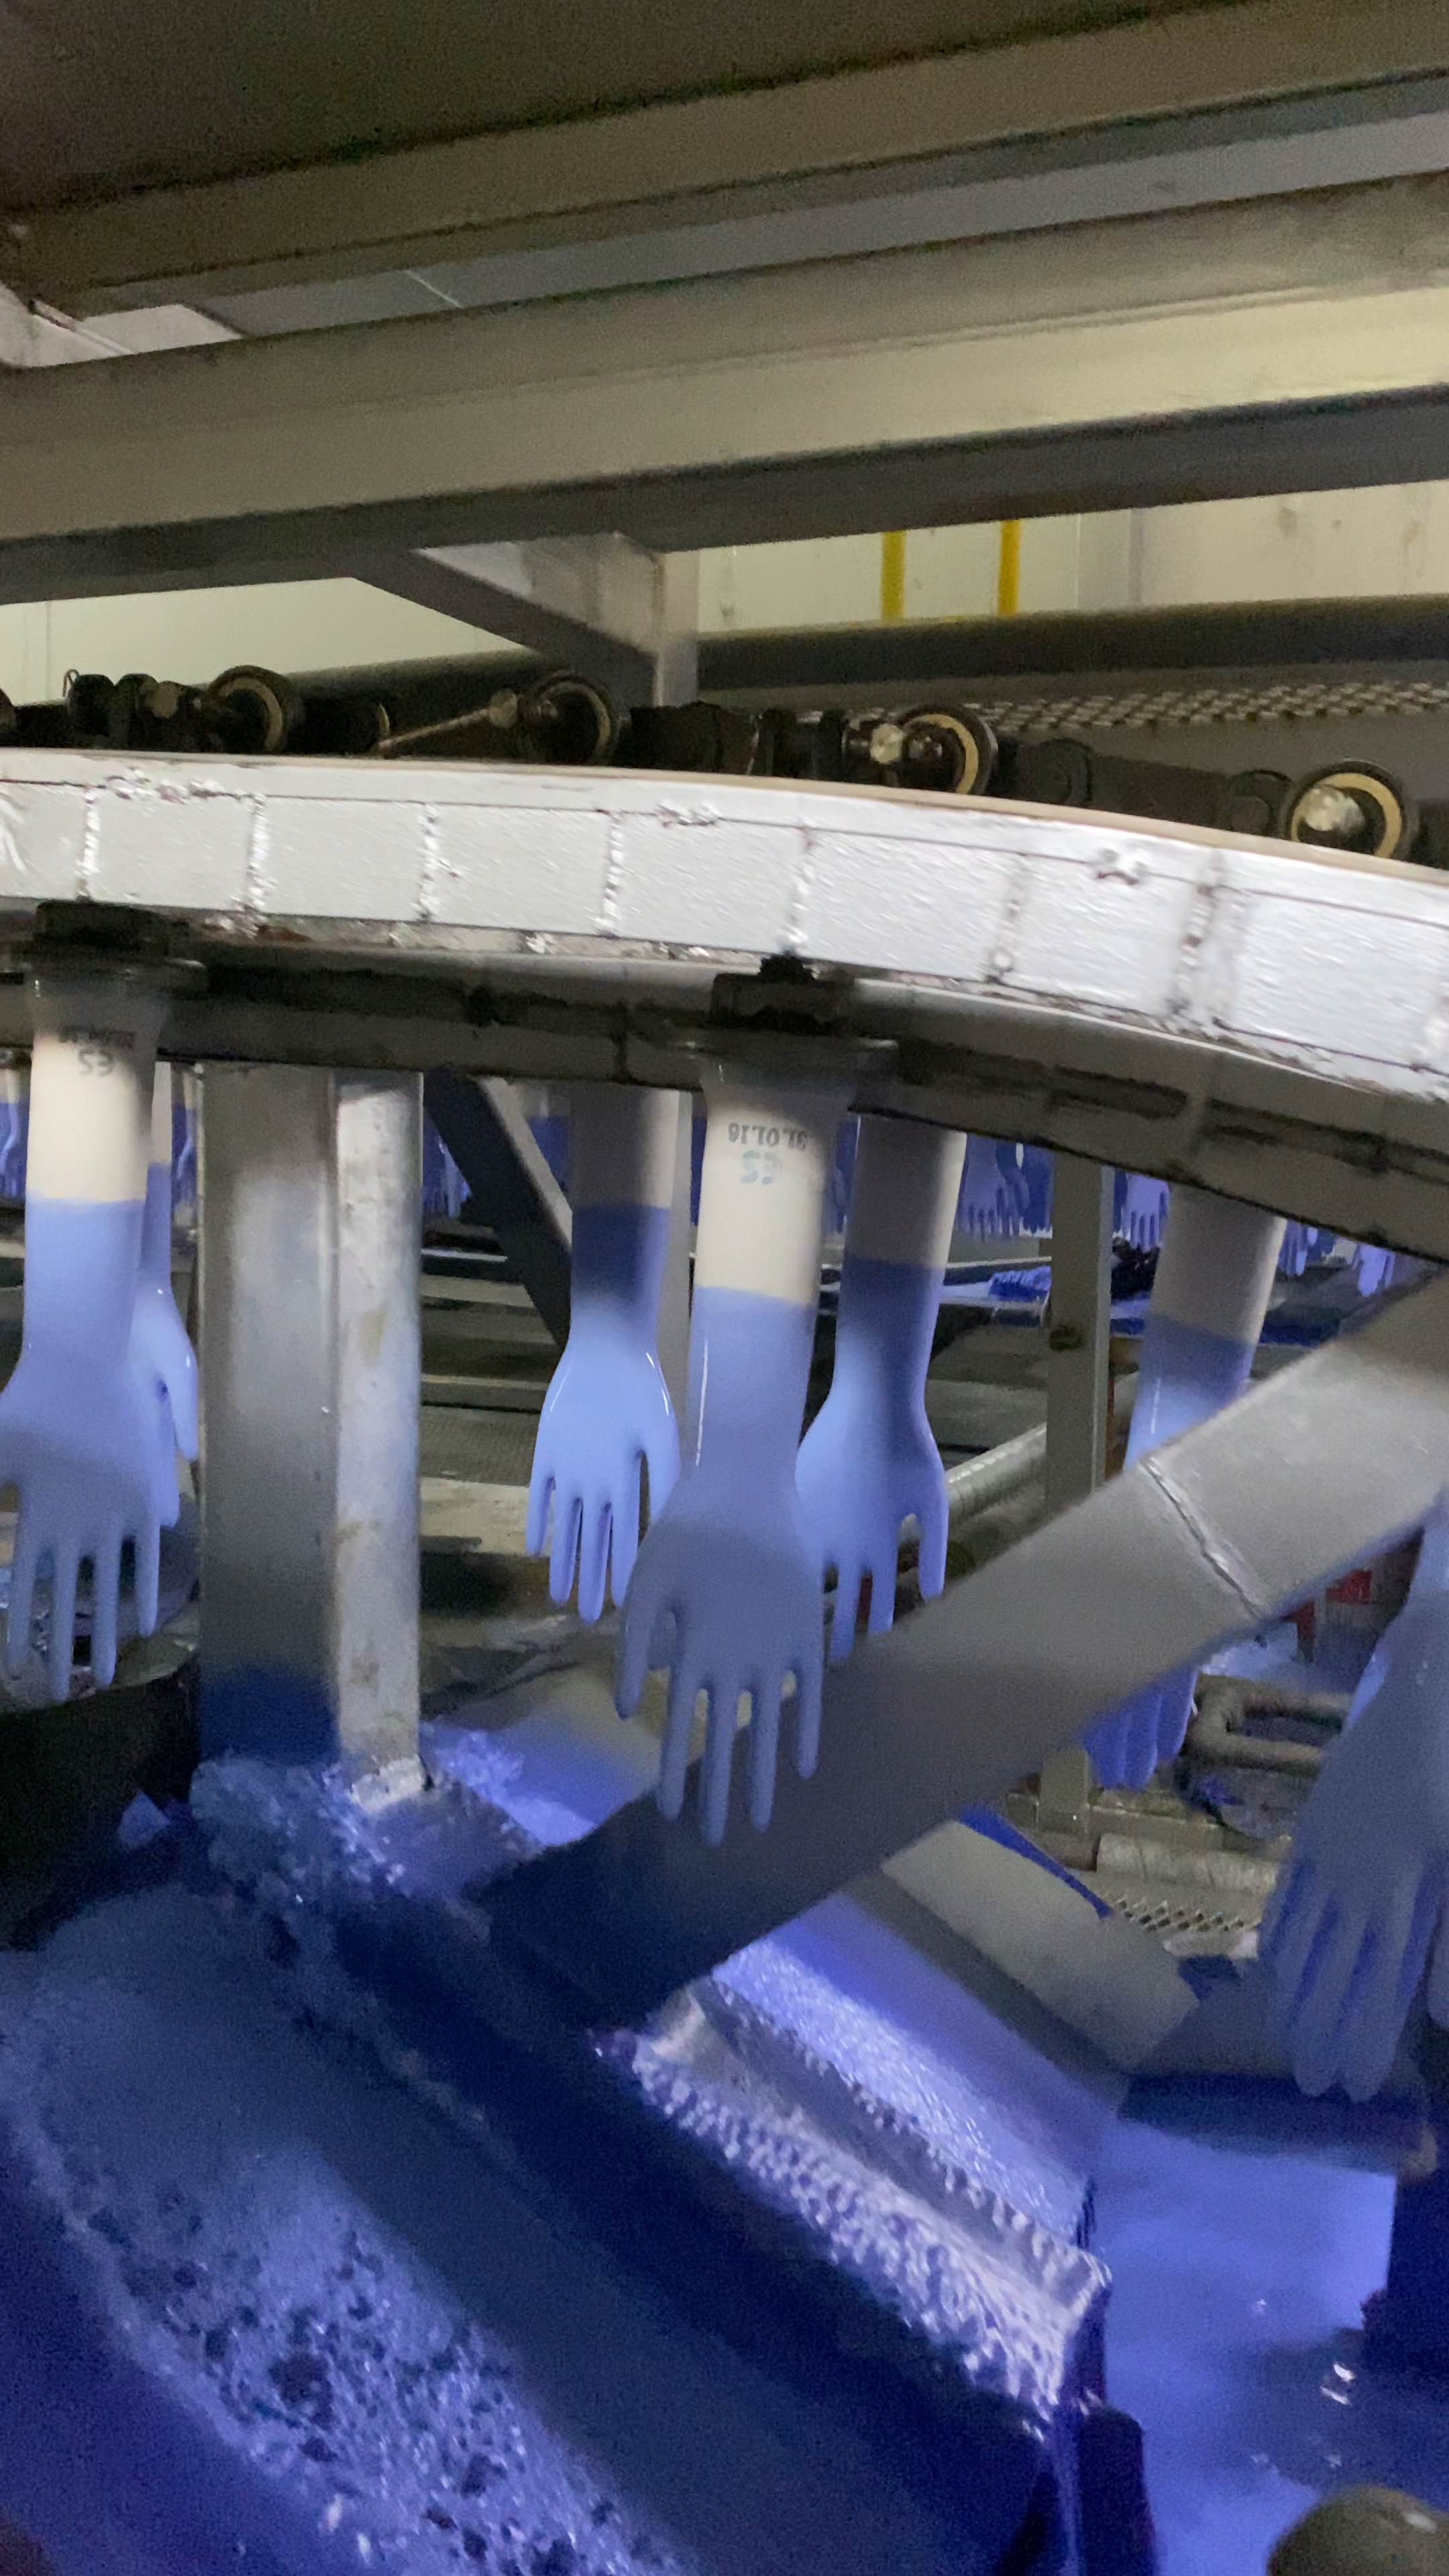glove: (614, 1283, 821, 1847), (1260, 1507, 1447, 2102), (0, 1200, 165, 1709), (527, 1205, 679, 1619), (794, 1258, 947, 1660), (133, 1164, 203, 1527), (1123, 1316, 1251, 1465), (1086, 1663, 1196, 1794), (959, 1136, 1008, 1240), (1118, 1171, 1169, 1251), (1017, 1145, 1051, 1235), (1274, 1221, 1318, 1279), (1355, 1238, 1394, 1300)
